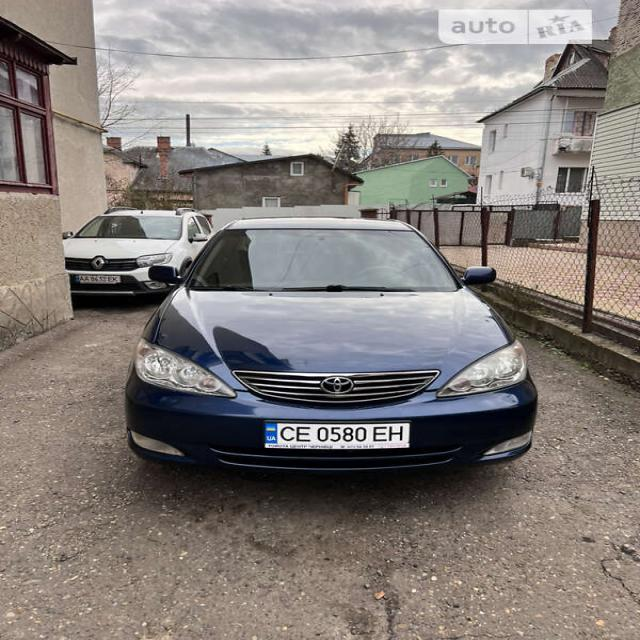plate: (258, 418, 418, 461)
